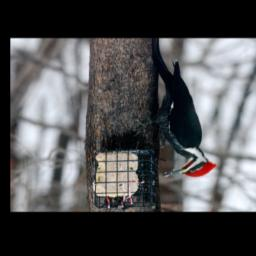Woodpecker: (132, 42, 217, 180)
